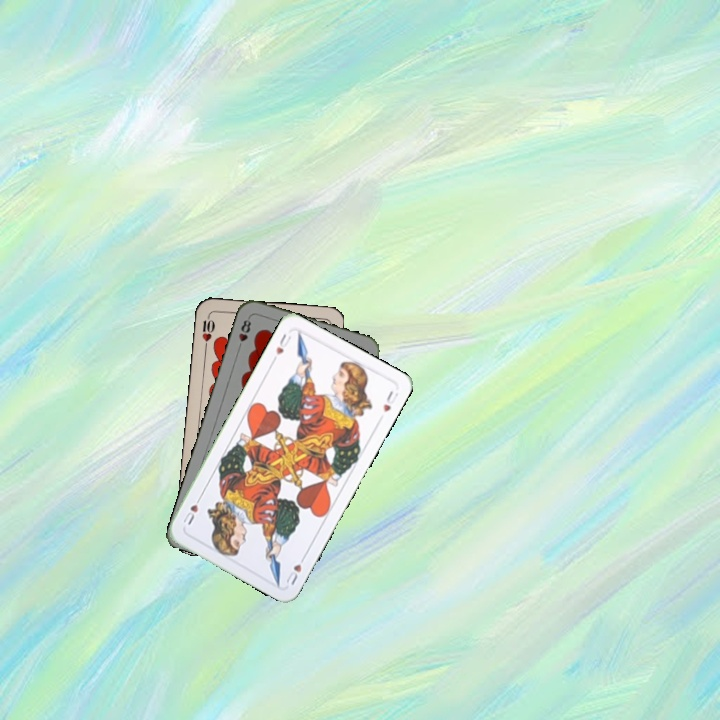H10: (198, 310, 217, 351)
H8: (234, 313, 254, 353)
HU: (282, 551, 309, 588), (268, 330, 294, 364)
